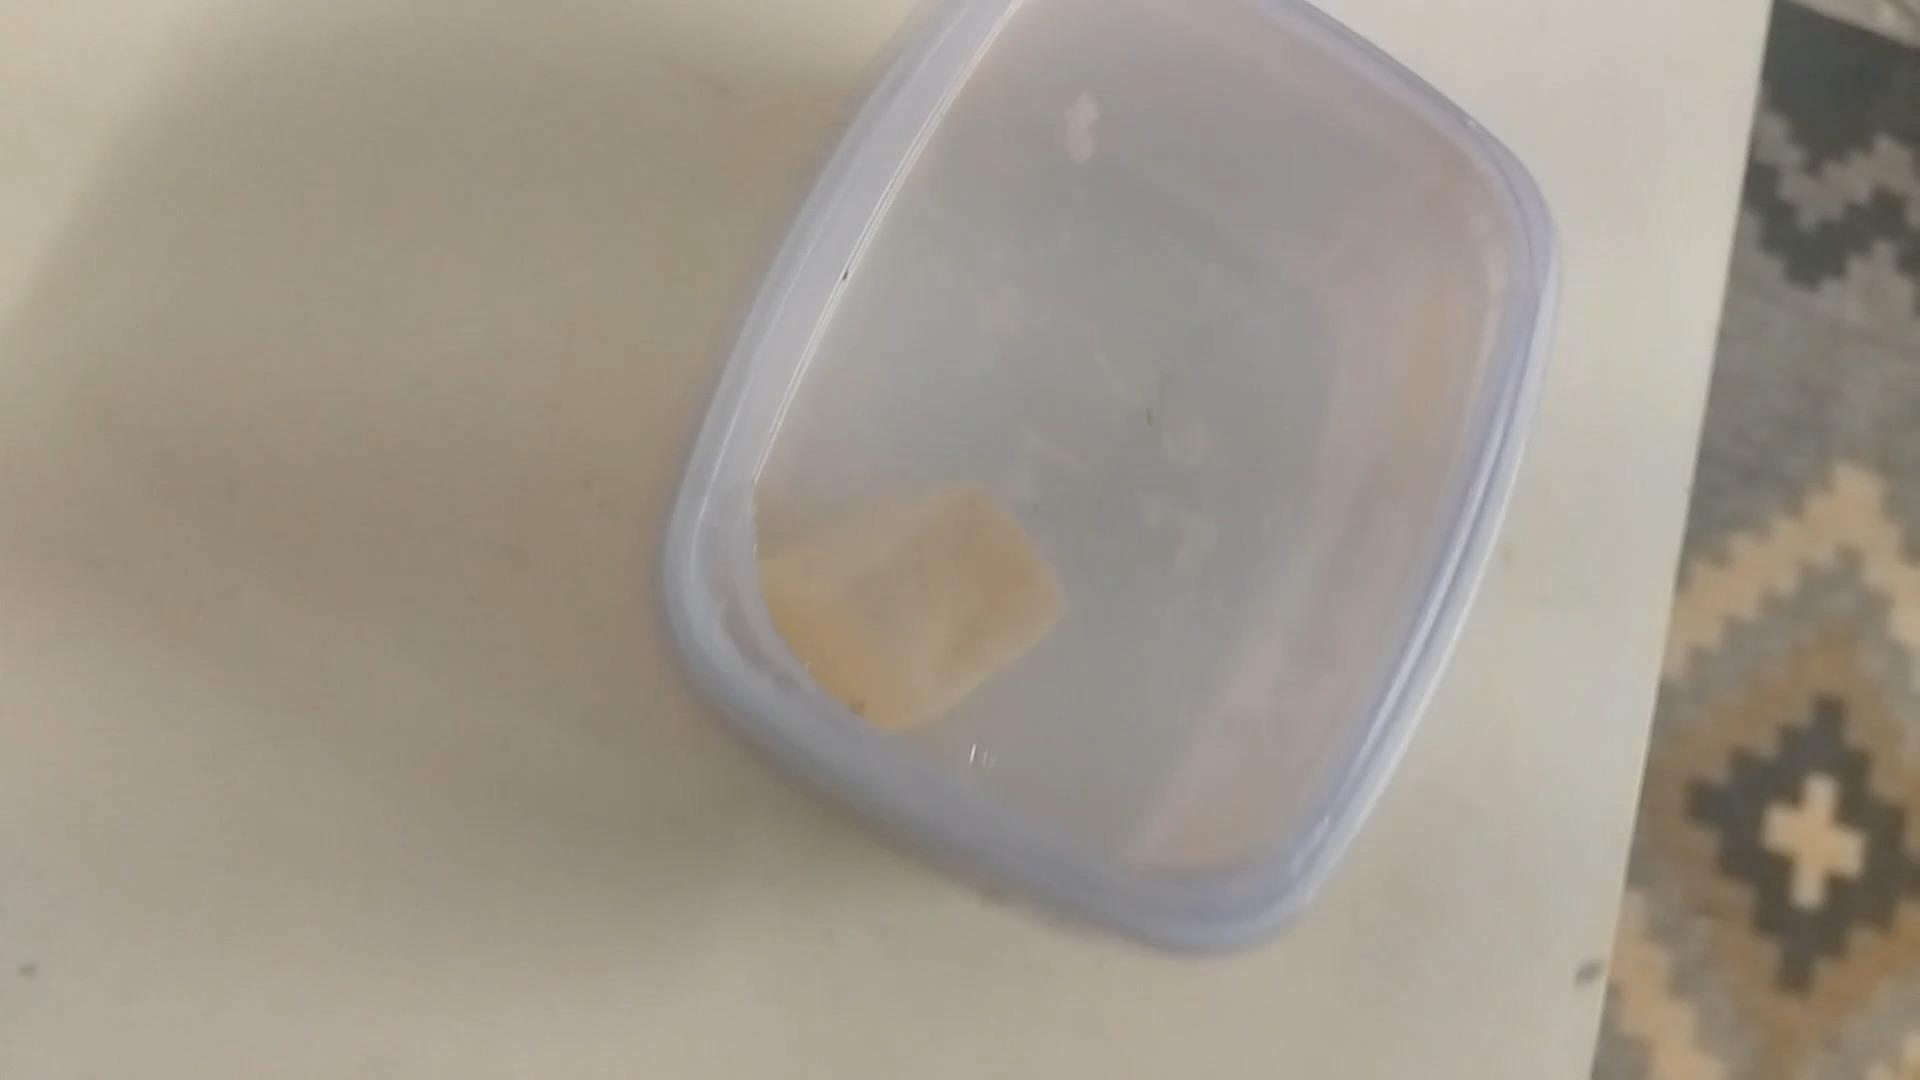butter: (661, 16, 1549, 956)
